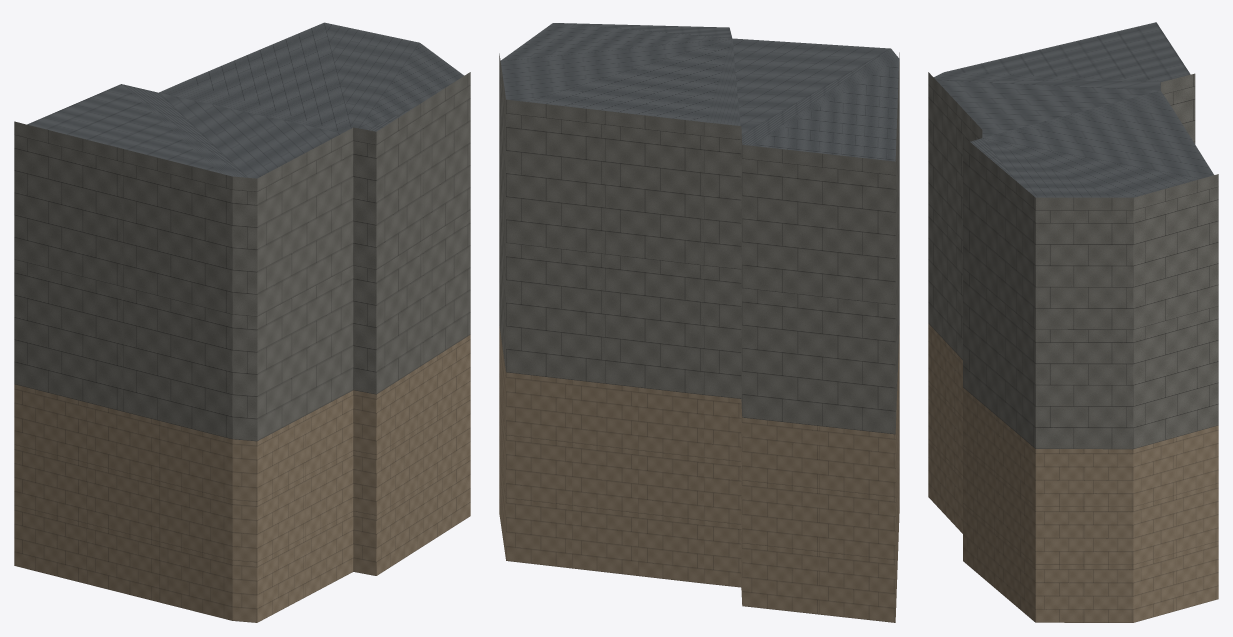
File: bld_c30_-25_538.gltf
3 renders of one model, left to right at view 1: azimuth 30°, elevation 25°; view 2: azimuth 150°, elevation 25°; view 3: azimuth 270°, elevation 25°, orthographic. The views are drawn at different scales.
Parts seen in each view (by area): view 1: bld_c30_-25_538; view 2: bld_c30_-25_538; view 3: bld_c30_-25_538.
Boxes of the visible parts, x1,y1,x2,y2 form: bld_c30_-25_538: (14,22,470,622); bld_c30_-25_538: (499,23,899,622); bld_c30_-25_538: (928,22,1218,622).
Bounding box in the file's own units: 11.57 × 12.48 × 7.73.
4 materials, 4 textured.
